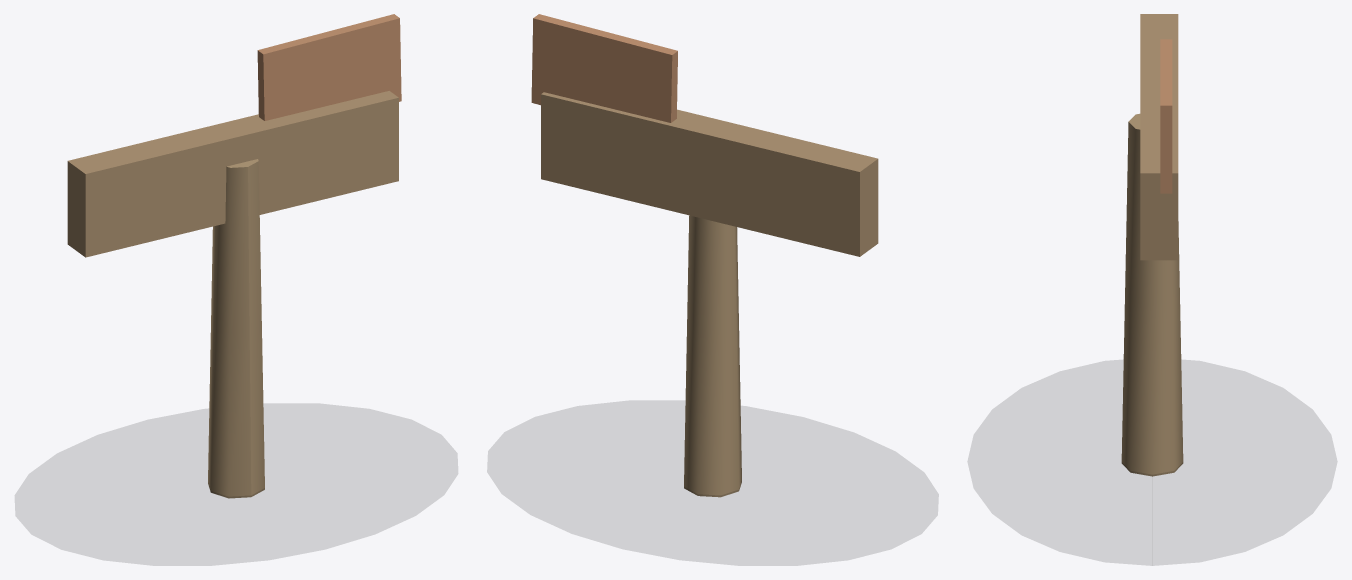
File: watch_post.glb
3 renders of one model, left to right at view 1: azimuth 30°, elevation 25°; view 2: azimuth 150°, elevation 25°; view 3: azimuth 270°, elevation 25°, orthographic. The views are drawn at different scales.
Parts seen in each view (by area): view 1: baked_contact_shadow, sign_board, post, red_flag; view 2: baked_contact_shadow, sign_board, post, red_flag; view 3: baked_contact_shadow, post, sign_board, red_flag.
Part boxes in pixels (bbox=[...]): baked_contact_shadow: bbox=[15, 404, 457, 565]; sign_board: bbox=[67, 91, 398, 257]; post: bbox=[208, 159, 264, 498]; red_flag: bbox=[257, 14, 401, 120]; baked_contact_shadow: bbox=[487, 401, 938, 565]; sign_board: bbox=[541, 92, 878, 256]; post: bbox=[684, 215, 741, 497]; red_flag: bbox=[531, 14, 677, 122]; baked_contact_shadow: bbox=[968, 360, 1336, 565]; post: bbox=[1121, 113, 1183, 476]; sign_board: bbox=[1140, 14, 1178, 260]; red_flag: bbox=[1160, 39, 1172, 193].
Size of the model in its own units: 1.44 by 1.42 by 1.08.
